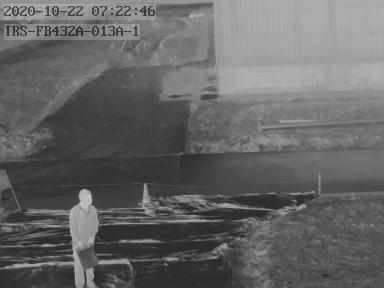person: (69, 189, 98, 287)
